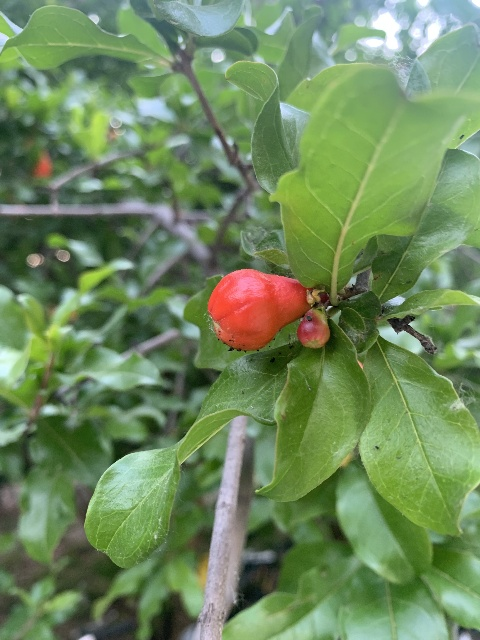bud: (207, 267, 310, 351), (297, 311, 329, 349)
